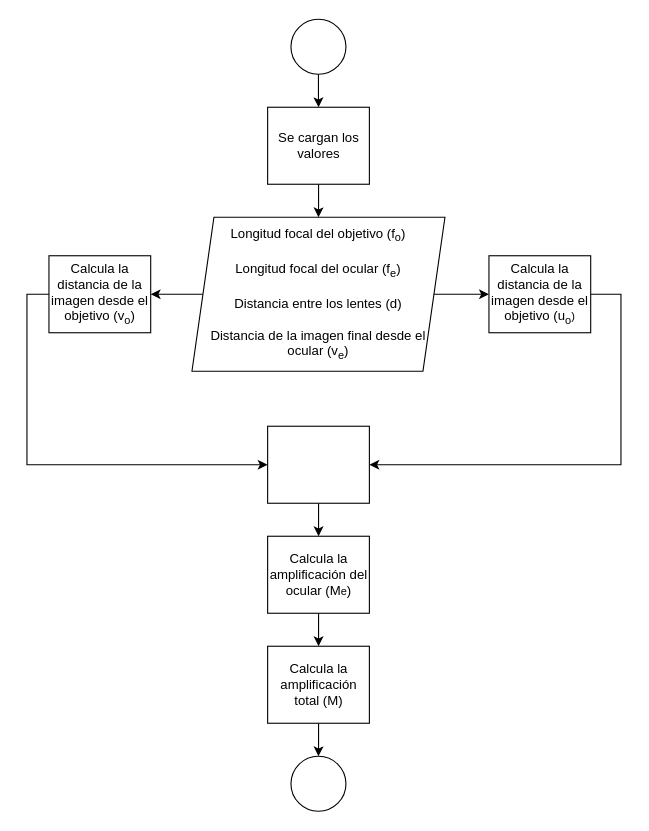
This 649x831 diagram has some shape labels left out. The box of each missing label's shape, as (x1, y1, x2, y2) in pixels:
Calcula la amplificación del objetivo (M o ): (267, 425, 369, 503)
Final: (290, 755, 346, 811)
Inicio: (290, 18, 346, 74)
